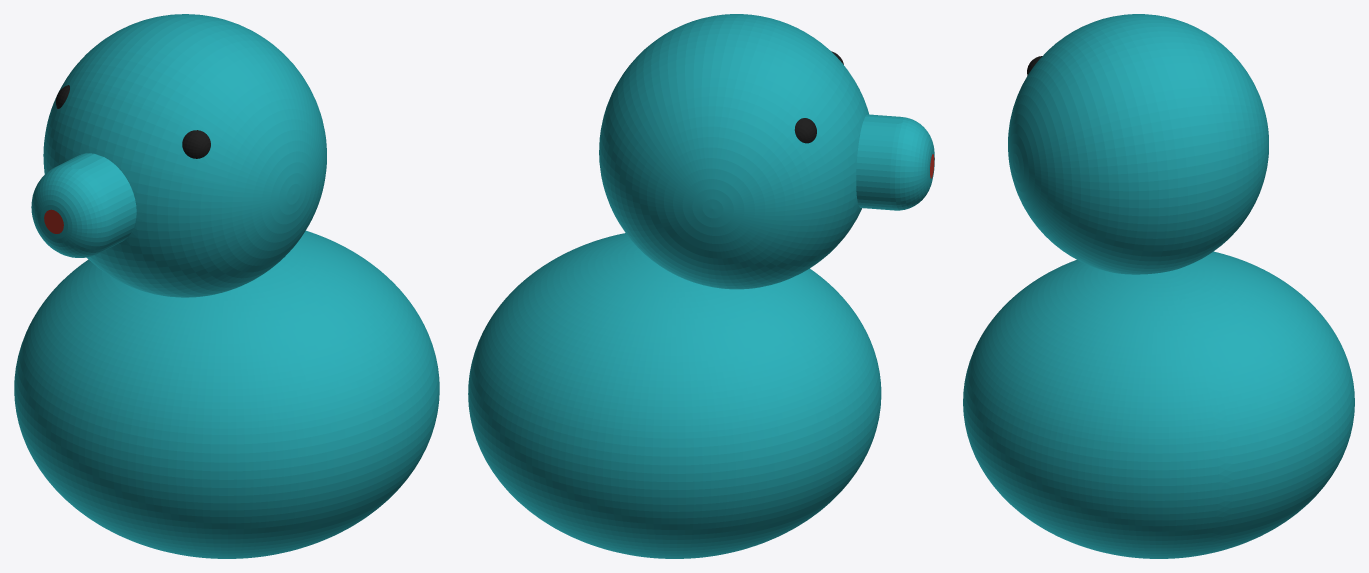
File: Enemy3.obj
The picture shows the model from 3 angles, left to right: view 1: azimuth 30°, elevation 25°; view 2: azimuth 150°, elevation 25°; view 3: azimuth 270°, elevation 25°; orthographic projection. The views are drawn at different scales.
Parts seen in each view (by area): view 1: Map1&Map2_v18_Enemy3_0; view 2: Map1&Map2_v18_Enemy3_0; view 3: Map1&Map2_v18_Enemy3_0.
Boxes of the visible parts, x1,y1,x2,y2 form: Map1&Map2_v18_Enemy3_0: (14,14,439,558); Map1&Map2_v18_Enemy3_0: (468,14,934,558); Map1&Map2_v18_Enemy3_0: (963,14,1354,558).
Size of the model in its own units: 13.31 by 16.39 by 12.
